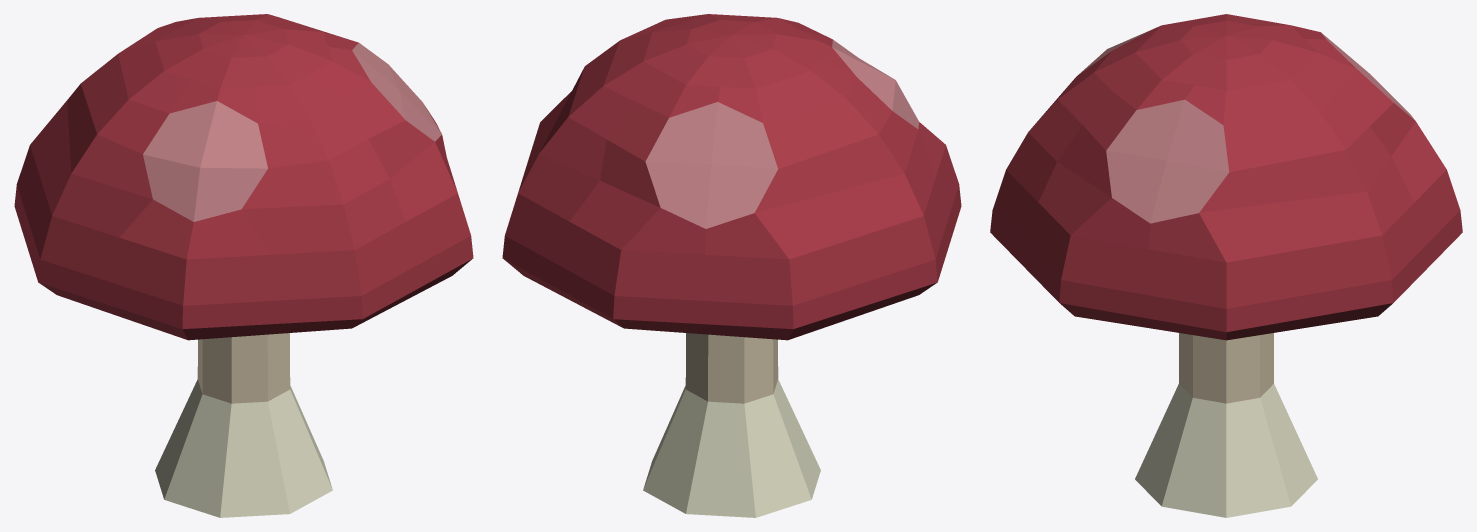
The model's file is RedShroomSmall2.fbx.
3 views of the same model, side by side, from view 1: azimuth 30°, elevation 25°; view 2: azimuth 150°, elevation 25°; view 3: azimuth 270°, elevation 25° (orthographic).
Parts seen in each view (by area): view 1: Sphere.013; view 2: Sphere.013; view 3: Sphere.013.
Boxes of the visible parts, x1=… form: Sphere.013: x1=14, y1=14, x2=473, y2=517; Sphere.013: x1=502, y1=14, x2=961, y2=517; Sphere.013: x1=990, y1=14, x2=1462, y2=517.
Size of the model in its own units: 49.85 by 51.56 by 49.85.
